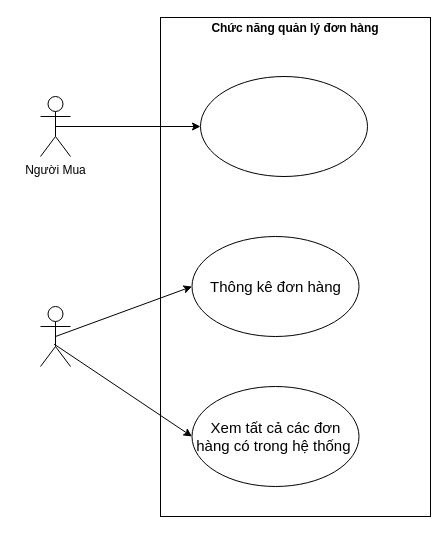
Image size: 448x534. Some labels were removed from this diagram. Each missing label, with the box of its shape:
Người quản trị: (40, 306, 70, 366)
Xem lại các đơn hàng đã mua: (200, 76, 368, 176)
